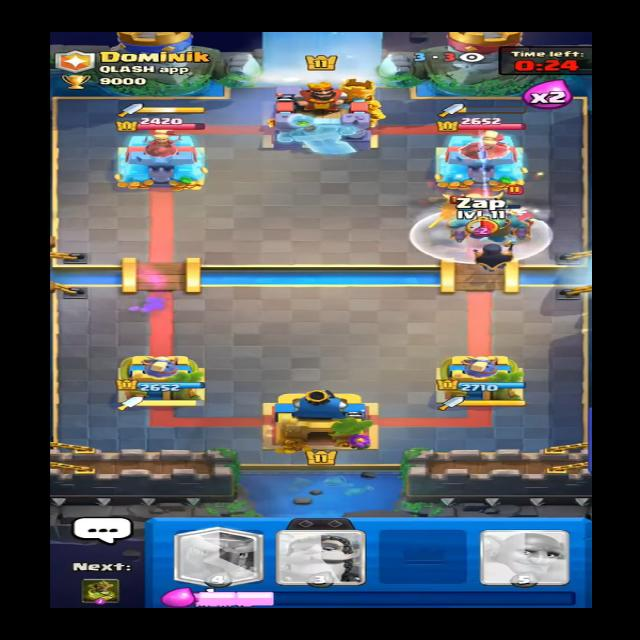pekka: (421, 191, 513, 228)
